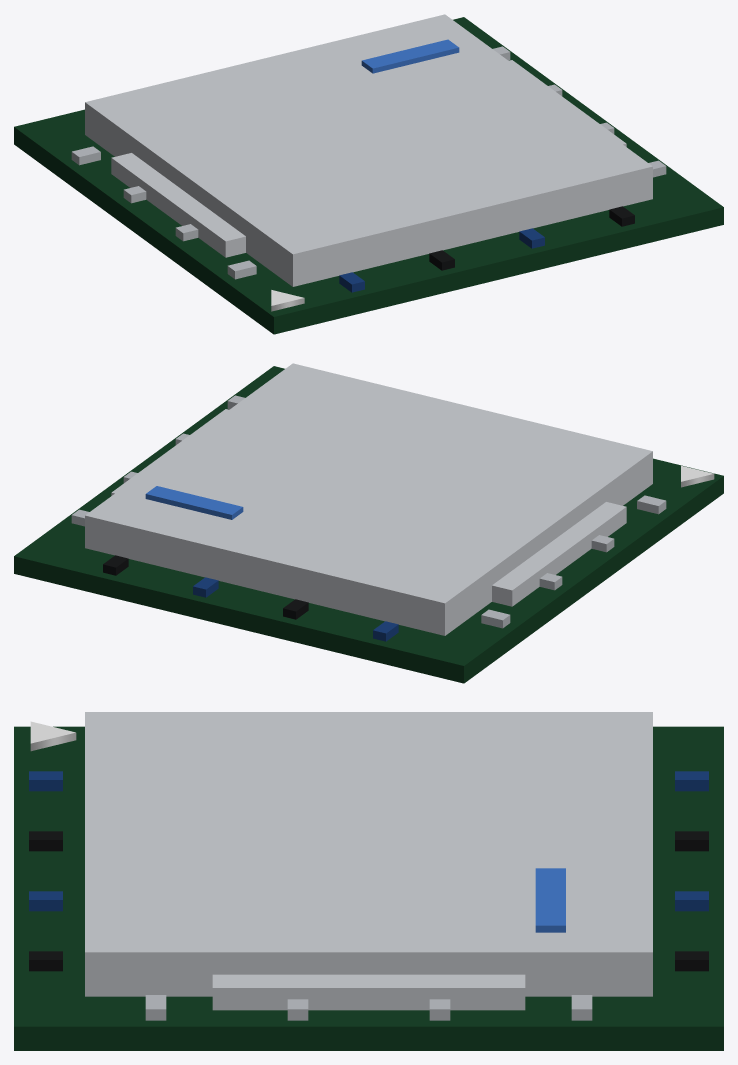
File: hw_cpu_pentium_g4560.glb
The picture shows the model from 3 angles, top to bottom: view 1: azimuth 30°, elevation 25°; view 2: azimuth 150°, elevation 25°; view 3: azimuth 270°, elevation 25°; orthographic projection. The views are drawn at different scales.
Visible parts, largest first — view 1: Body; view 2: Body; view 3: Body.
Part boxes in pixels (<box>): Body: <box>14,14,723,334</box>; Body: <box>14,363,723,683</box>; Body: <box>14,712,723,1050</box>.
Size of the model in its own units: 0.0375 by 0.00467 by 0.0375.
